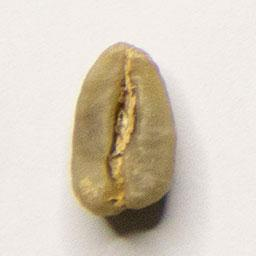longberry: (67, 38, 180, 222)
